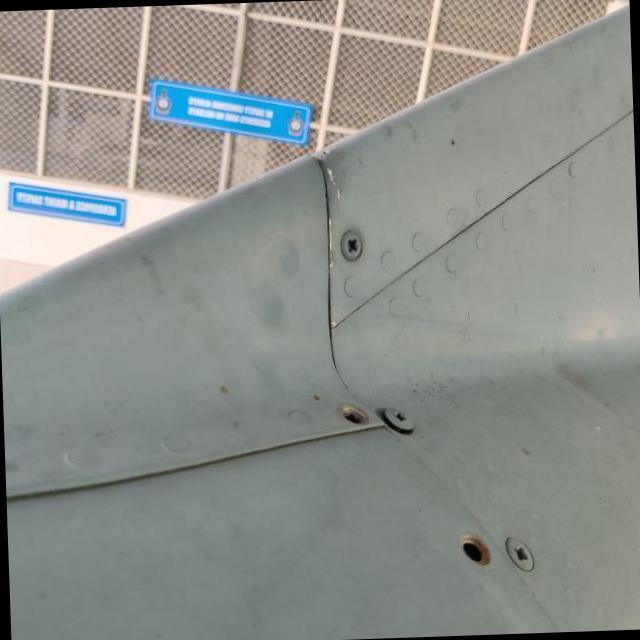Fastener Damage: (316, 375, 397, 451), (442, 514, 515, 591)
